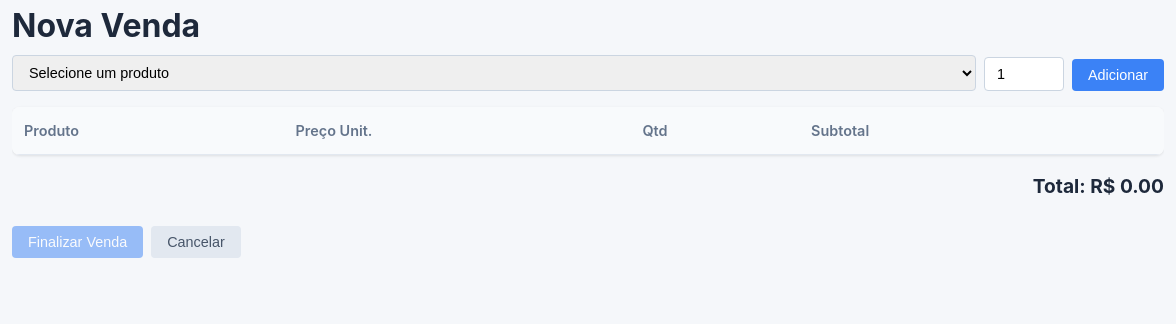
Test case: NewSale page › acumula a quantidade ao adicionar o mesmo produto
The image size is (1176, 324).
Step 1. Select "Arroz (R$ 10.50) - Est: 20" in the dropdown → (494, 73), box [12,55,976,91]
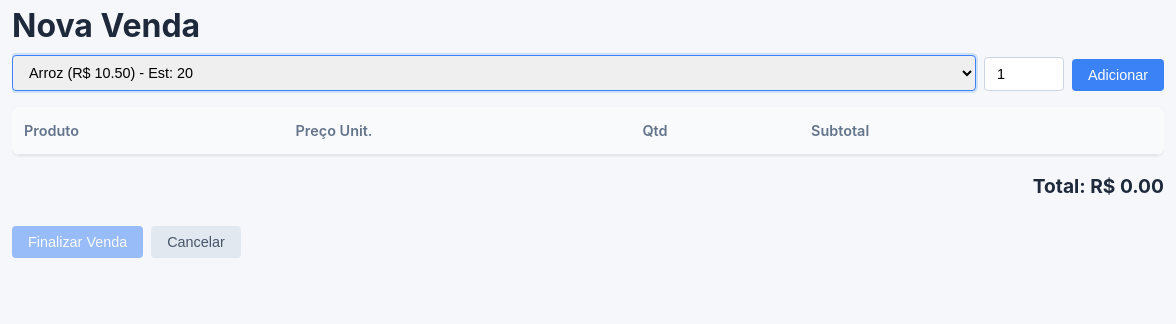
Step 2. Replace the text in the number field with "2" → (1024, 74), box [984,57,1064,91]
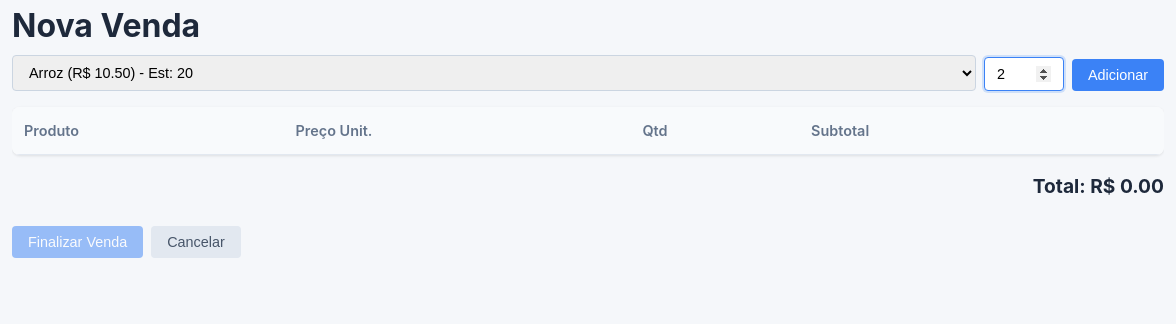
Step 3. Click the button "Adicionar" → (1118, 75), box [1072,59,1164,91]
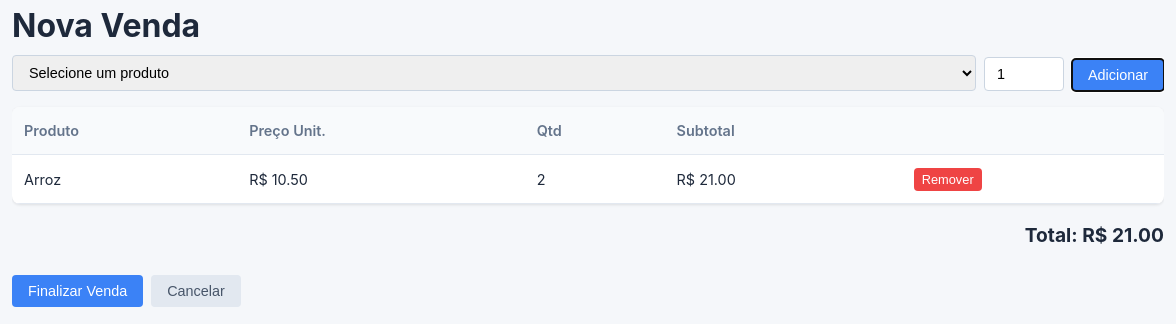
Step 4. Select "Arroz (R$ 10.50) - Est: 20" in the dropdown → (494, 73), box [12,55,976,91]
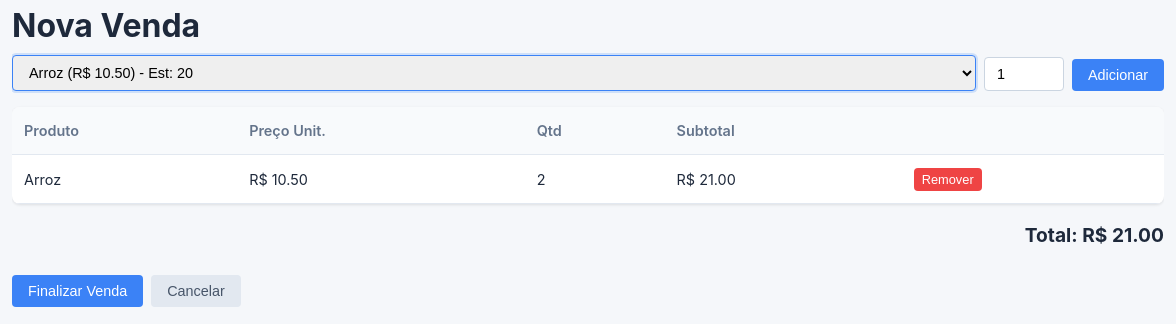
Step 5. Replace the text in the number field with "3" → (1024, 74), box [984,57,1064,91]
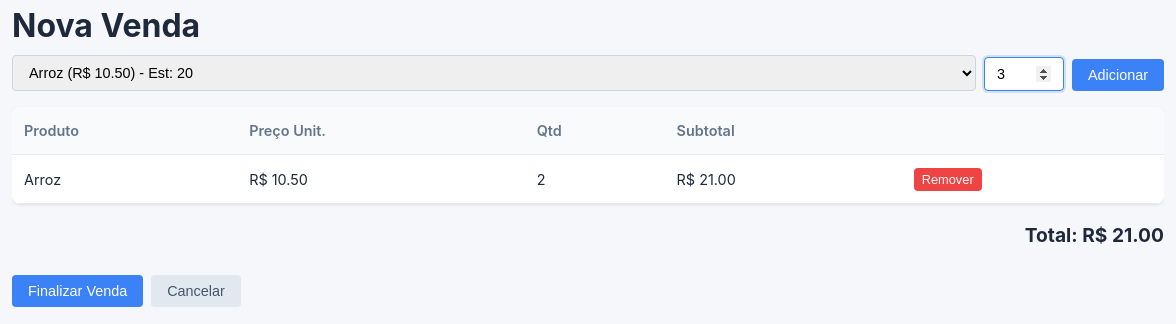
Step 6. Click the button "Adicionar" → (1118, 75), box [1072,59,1164,91]
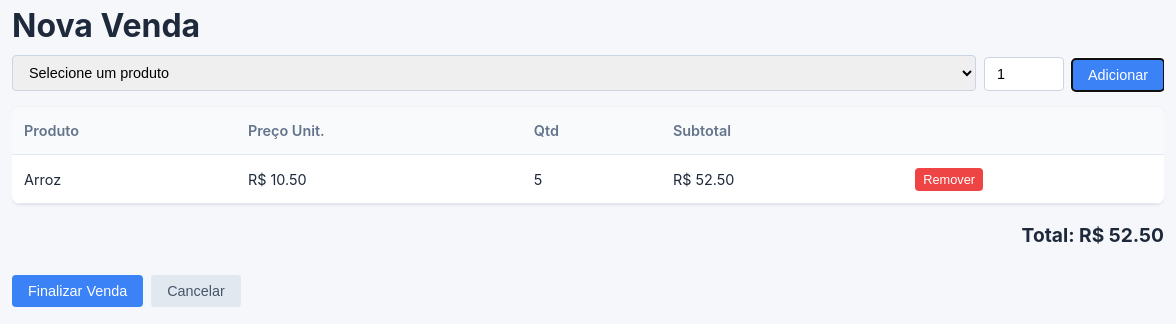
Check: the text "5" is shown, box [522,155,661,204]
Check: the text "Total: R$ 52.50" is shown, box [1022,223,1164,247]
